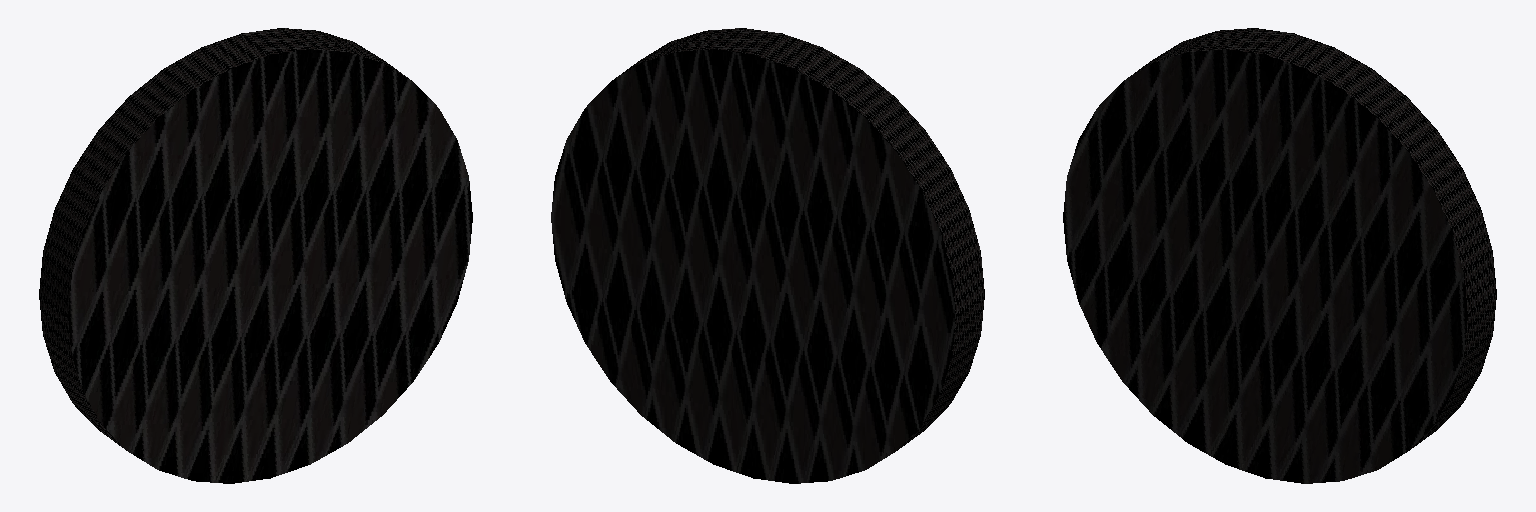
The picture shows the model from 3 angles: view 1: azimuth 30°, elevation 25°; view 2: azimuth 150°, elevation 25°; view 3: azimuth 330°, elevation 25°; orthographic projection.
Visible parts, largest first — view 1: Cylinder; view 2: Cylinder; view 3: Cylinder.
Boxes of the visible parts, x1,y1,x2,y2 form: Cylinder: [39, 28, 472, 483]; Cylinder: [551, 28, 984, 483]; Cylinder: [1063, 28, 1496, 483].
Size of the model in its own units: 8 by 8 by 1.
Materials: 1 (1 with a texture image).